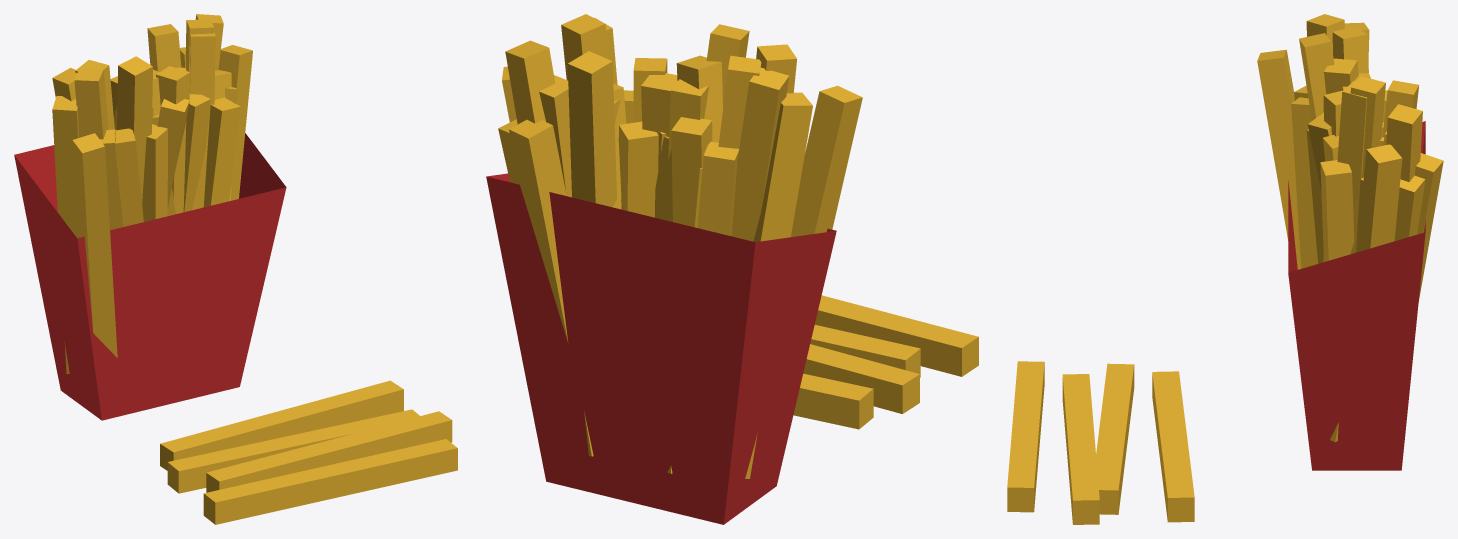
The model's file is Chips.fbx.
The picture shows the model from 3 angles, left to right: view 1: azimuth 30°, elevation 25°; view 2: azimuth 150°, elevation 25°; view 3: azimuth 270°, elevation 25°; orthographic projection. The views are drawn at different scales.
Visible parts, largest first — view 1: Chips; view 2: Chips; view 3: Chips.
Part boxes in pixels (x1=…): Chips: x1=14, y1=14, x2=457, y2=524; Chips: x1=486, y1=14, x2=978, y2=524; Chips: x1=1007, y1=14, x2=1443, y2=524.
Bounding box in the file's own units: 0.1193 × 0.1402 × 0.146.
